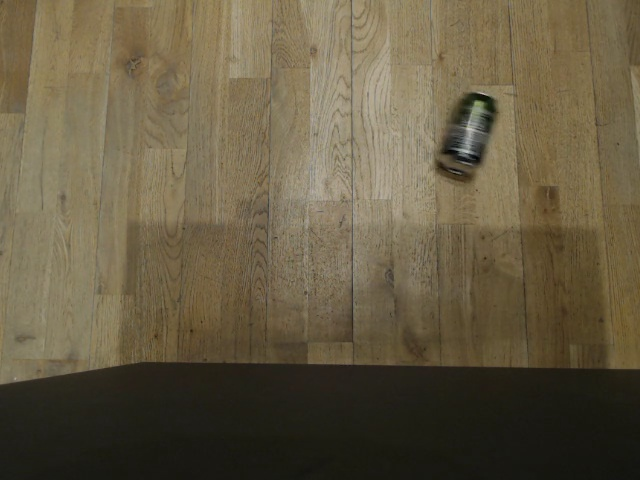beer: (436, 90, 498, 180)
